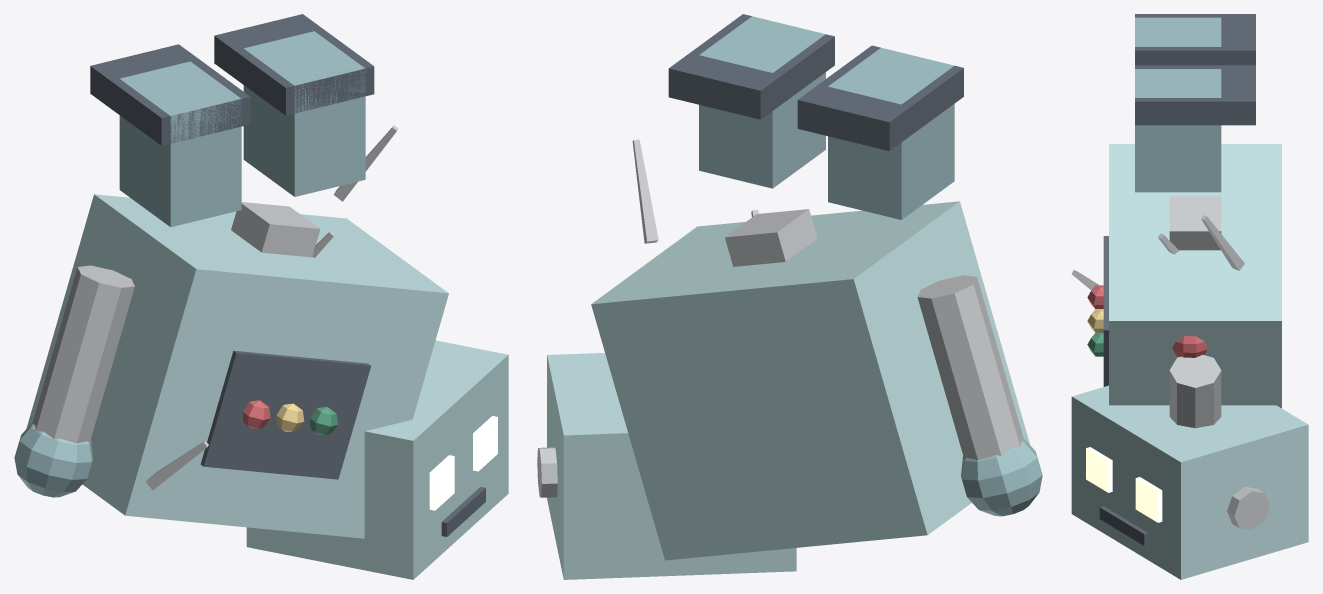
File: toy_robot_botched.glb
3 renders of one model, left to right at view 1: azimuth 30°, elevation 25°; view 2: azimuth 150°, elevation 25°; view 3: azimuth 270°, elevation 25°, orthographic. The views are drawn at different scales.
Parts seen in each view (by area): view 1: Body, Leg.-1, Foot.-1, Arm.-1, Eye.-1, Button.1, Button.0, Button.2; view 2: Body, Leg.-1, Arm.-1, Foot.-1; view 3: Body, Leg.-1, Foot.-1, Arm.-1, Eye.-1, Button.0, Button.2, Button.1.
Boxes of the visible parts, x1,y1,x2,y2 form: Body: [26, 194, 508, 579]; Leg.-1: [14, 31, 365, 497]; Foot.-1: [90, 14, 485, 536]; Arm.-1: [32, 125, 398, 490]; Eye.-1: [429, 416, 497, 510]; Button.1: [276, 403, 304, 431]; Button.0: [243, 400, 270, 428]; Button.2: [310, 406, 337, 435]; Body: [547, 201, 1029, 579]; Leg.-1: [699, 16, 1042, 516]; Arm.-1: [537, 139, 1023, 497]; Foot.-1: [668, 14, 963, 150]; Body: [1071, 144, 1308, 579]; Leg.-1: [1135, 17, 1221, 192]; Foot.-1: [1099, 14, 1255, 545]; Arm.-1: [1071, 195, 1269, 530]; Eye.-1: [1086, 447, 1162, 522]; Button.0: [1087, 285, 1207, 357]; Button.2: [1087, 332, 1103, 356]; Button.1: [1087, 309, 1103, 332].
Bounding box in the file's own units: 0.5412 × 0.5253 × 0.274.
